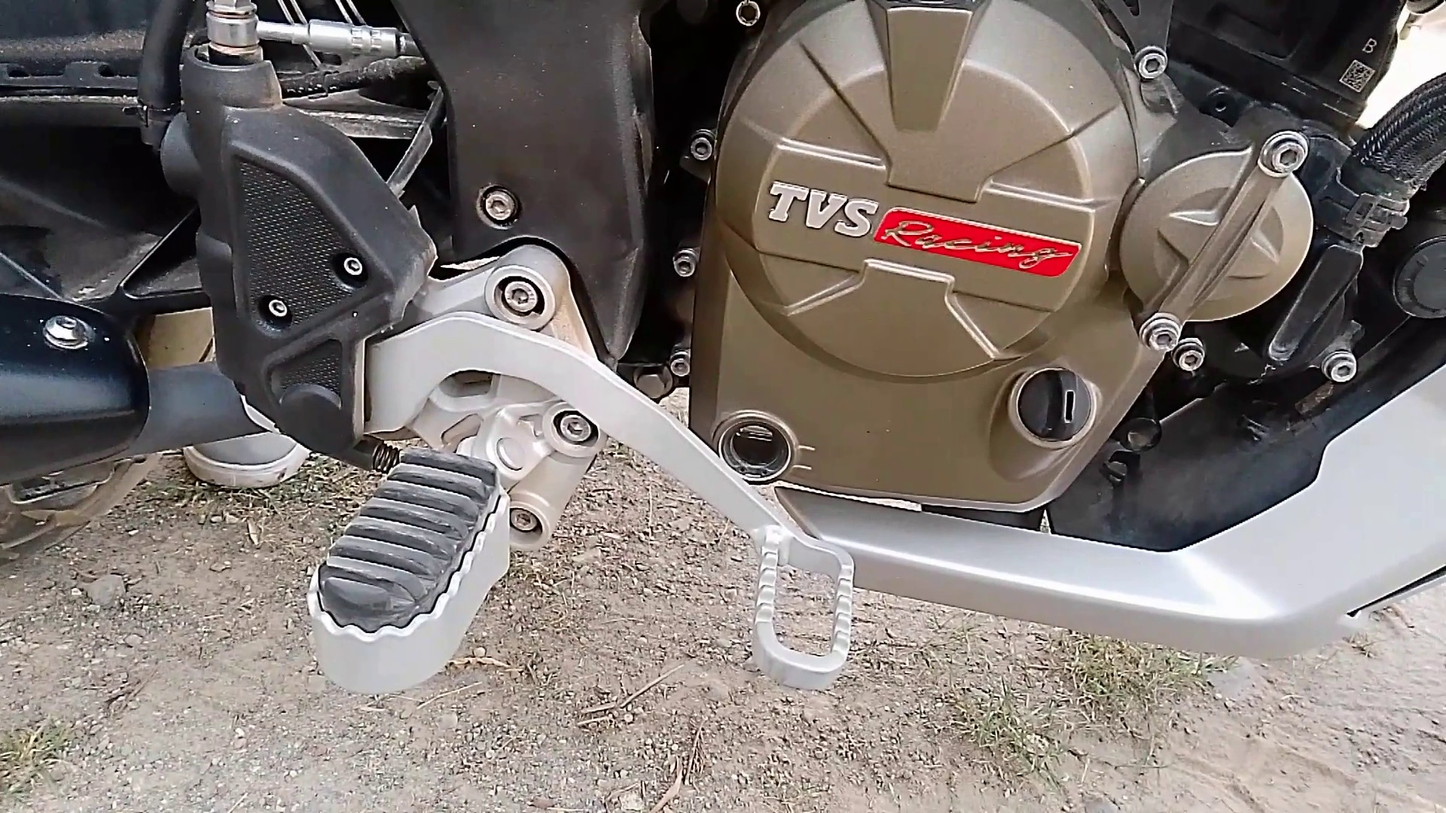bike-engine: (686, 0, 1321, 511)
bike-engine-level: (713, 402, 808, 486)
bike-oil-cap: (983, 353, 1114, 484)
